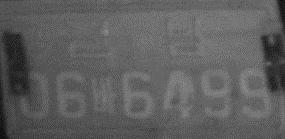0: (17, 71, 51, 120)
4: (161, 68, 195, 120)
6: (120, 69, 155, 120), (54, 69, 87, 119)
9: (236, 67, 272, 122), (199, 68, 233, 119)
바: (90, 75, 118, 118)
영: (18, 17, 56, 60)
전남_D: (64, 14, 207, 62)
